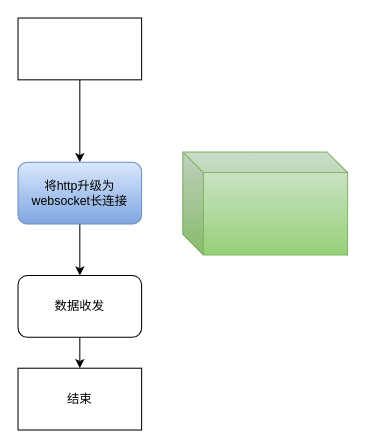
Image size: 389x448. Some labels were removed from this diagram. Each missing label, with the centre of its shape:
"http 连接" belongs at pixel 79 48.
"websocket . Upgrader" belongs at pixel 265 203.
